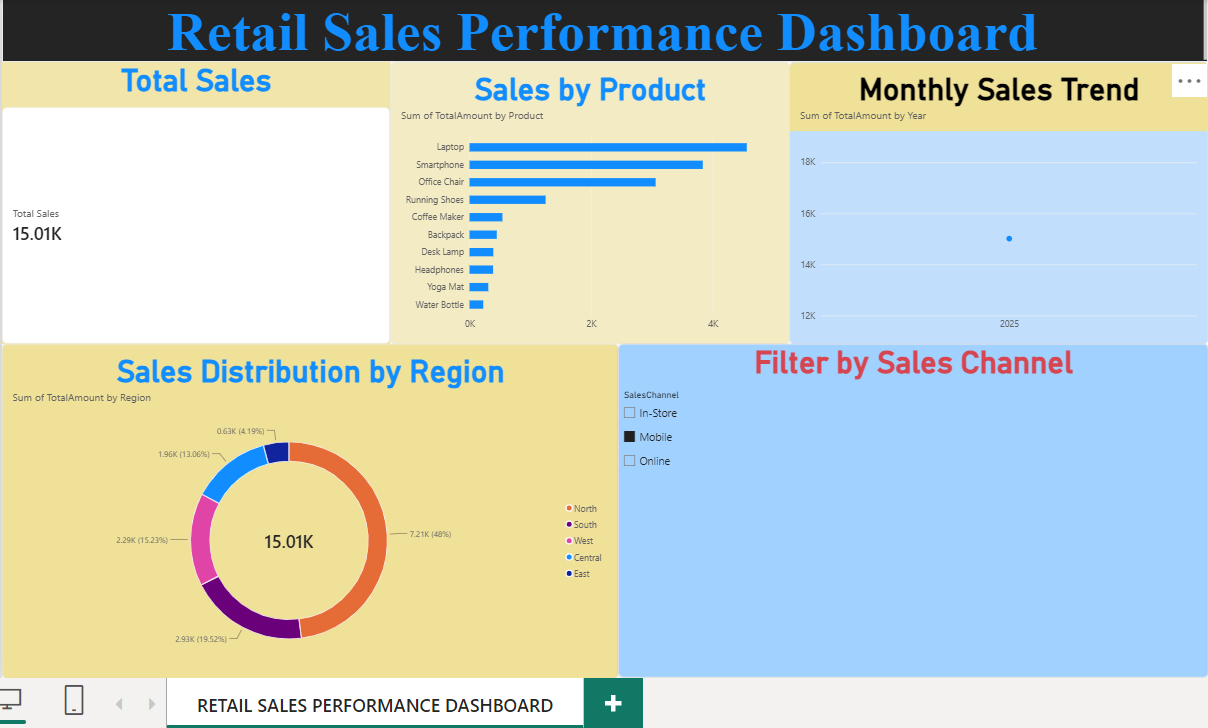

This screenshot's page, from the dashboard's own definition file:
{"tool":"powerbi","page":{"name":"RETAIL SALES PERFORMANCE DASHBOARD","canvas":[1920,1080],"ordinal":0},"visuals":[{"type":"cardVisual","title":"Total Sales","fields":{"Data":["capstone-10.Total Sales"]},"box":[0,100.2,618,553.5],"z":0},{"type":"clusteredBarChart","title":"Sales by Product","fields":{"Category":["capstone-10.Product"],"Y":["Sum(capstone-10.TotalAmount)"]},"box":[618,100.2,634.7,553.5],"z":1000},{"type":"lineChart","title":"Monthly Sales Trend","fields":{"Category":["capstone-10.Date"],"Y":["Sum(capstone-10.TotalAmount)"]},"box":[1252.6,100.2,665.7,553.5],"z":2000},{"type":"donutChart","title":"Sales Distribution by Region","fields":{"Category":["capstone-10.Region"],"Y":["Sum(capstone-10.TotalAmount)"]},"box":[0,653.7,980.6,427.1],"z":3000},{"type":"slicer","title":"Filter by Sales Channel","fields":{"Values":["capstone-10.SalesChannel"]},"box":[980.6,653.7,937.7,427.1],"z":4000},{"type":"textbox","box":[0,0,1919.1,99.2],"z":9001}]}

Visuals, with their boxes on the page's 1920x1080 design canvas (x1, y1, x2, y2). These are canvas units, not pixel positions in the 1208x728 screenshot, which may show the page scaled, cropped or inside an application window:
"Total Sales" cardVisual: 0, 100, 618, 654
"Sales by Product" clusteredBarChart: 618, 100, 1253, 654
"Monthly Sales Trend" lineChart: 1253, 100, 1918, 654
"Sales Distribution by Region" donutChart: 0, 654, 981, 1081
"Filter by Sales Channel" slicer: 981, 654, 1918, 1081
textbox: 0, 0, 1919, 99
